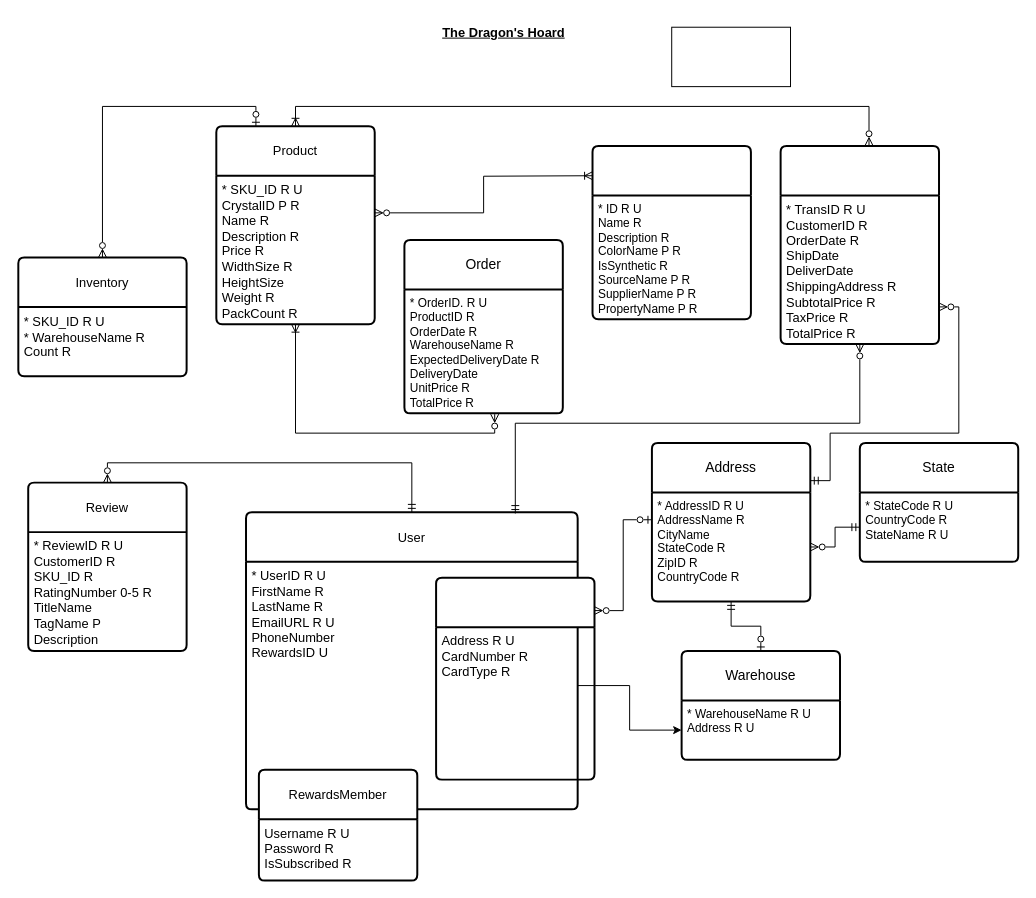
This 1036x898 diagram has some shape labels left out. Each missing label, with the box of its shape:
Crystal: (591, 145, 751, 320)
Customer: (435, 576, 595, 780)
P - Plural R - Required U - Unique: (671, 26, 791, 87)
Transaction: (779, 145, 940, 345)
